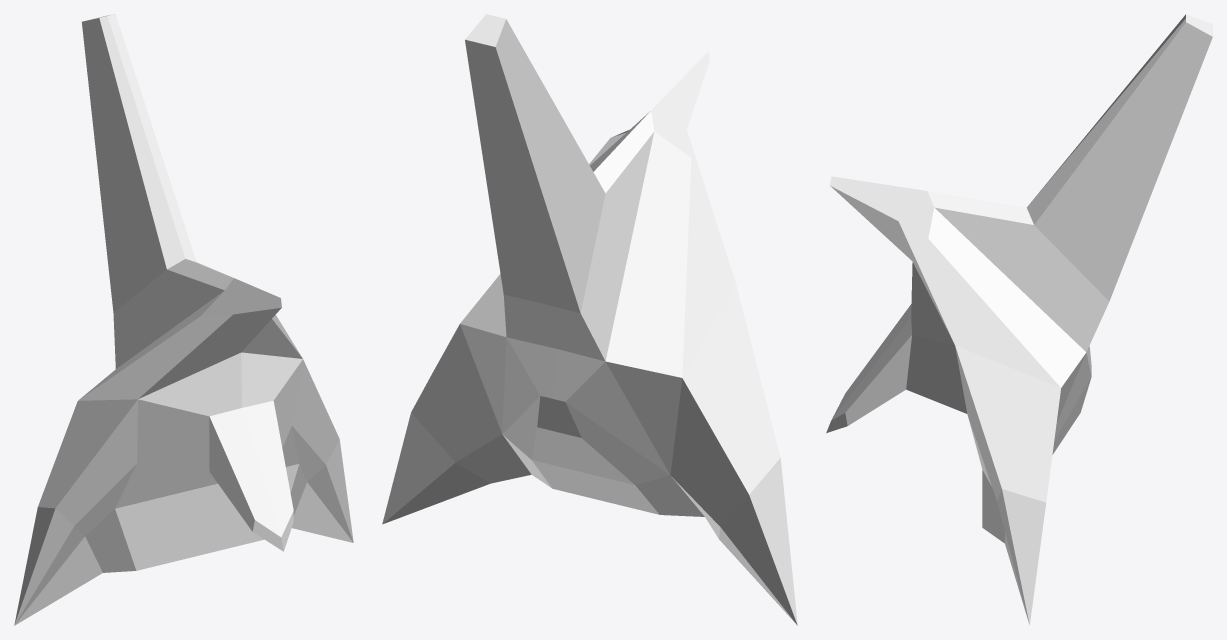
The model's file is head_18.fbx.
3 renders of one model, left to right at view 1: azimuth 30°, elevation 25°; view 2: azimuth 150°, elevation 25°; view 3: azimuth 270°, elevation 25°, orthographic. The views are drawn at different scales.
Visible parts, largest first — view 1: Cube.143; view 2: Cube.143; view 3: Cube.143.
Part boxes in pixels (x1,y1,x2,y2): Cube.143: [14, 14, 353, 625]; Cube.143: [382, 14, 797, 625]; Cube.143: [826, 14, 1212, 625].
Size of the model in its own units: 54.72 by 78.92 by 52.88.
